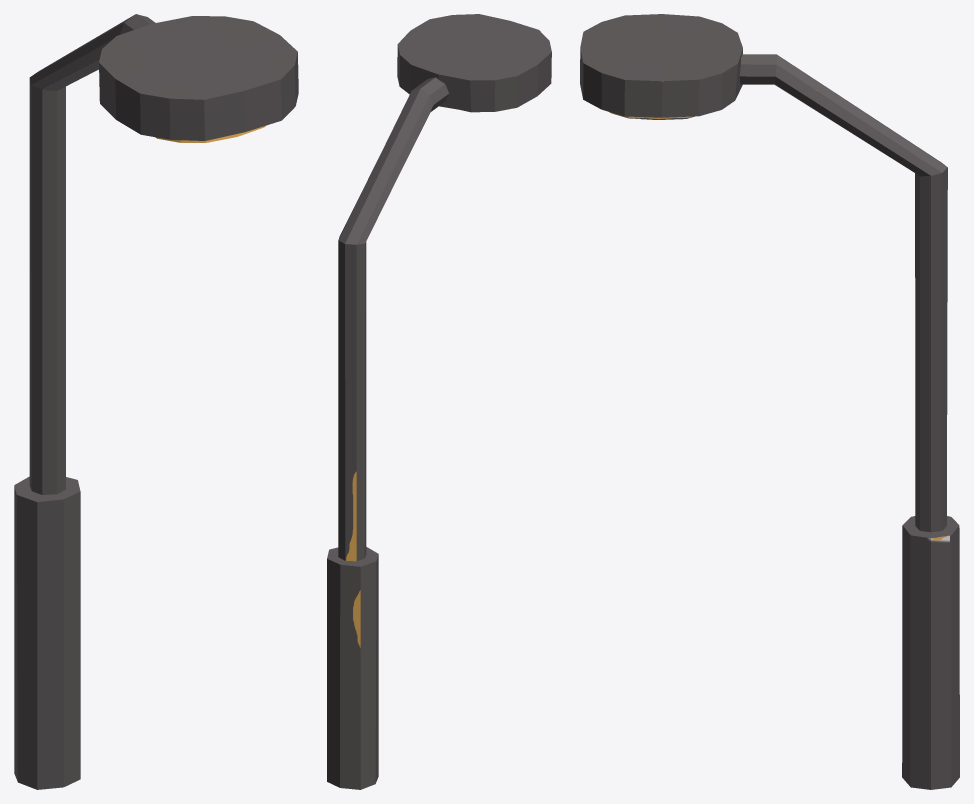
Rendered from lamp.fbx.
3 views of the same model, side by side, from view 1: azimuth 30°, elevation 25°; view 2: azimuth 150°, elevation 25°; view 3: azimuth 270°, elevation 25° (orthographic). The views are drawn at different scales.
Parts seen in each view (by area): view 1: Cube.001; view 2: Cube.001; view 3: Cube.001.
Boxes of the visible parts, box(x1,y1,x2,y2) form: Cube.001: box(14, 14, 298, 789); Cube.001: box(327, 14, 551, 789); Cube.001: box(580, 14, 959, 789).
Bounding box in the file's own units: 1020 × 4915 × 2316.
